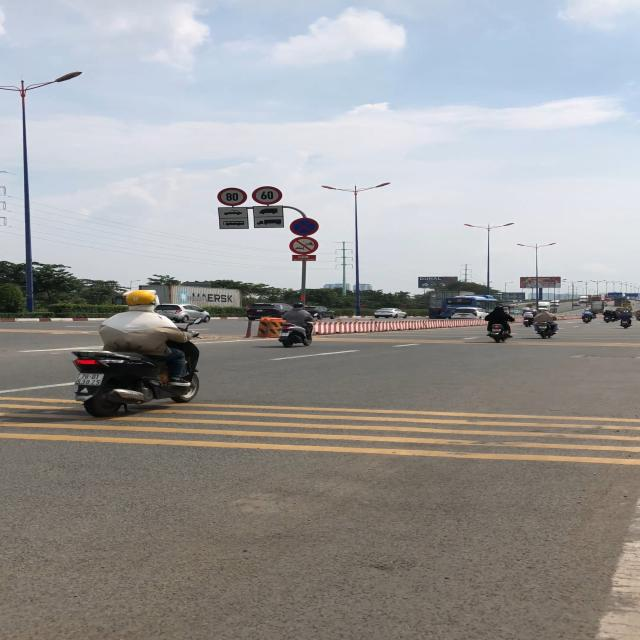Bien bao cam dung xe va do xe: (287, 217, 320, 236)
Bien bao toc do toi da cho phep: (213, 185, 248, 208), (251, 185, 284, 205)
